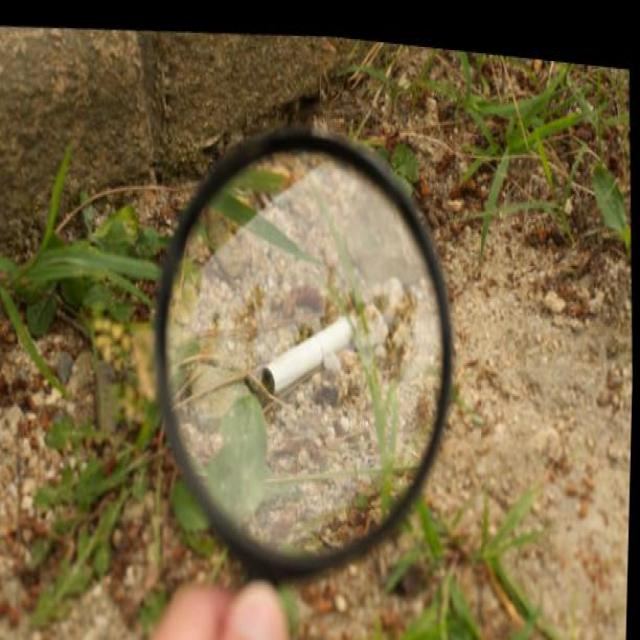cigarette: (259, 286, 364, 398)
